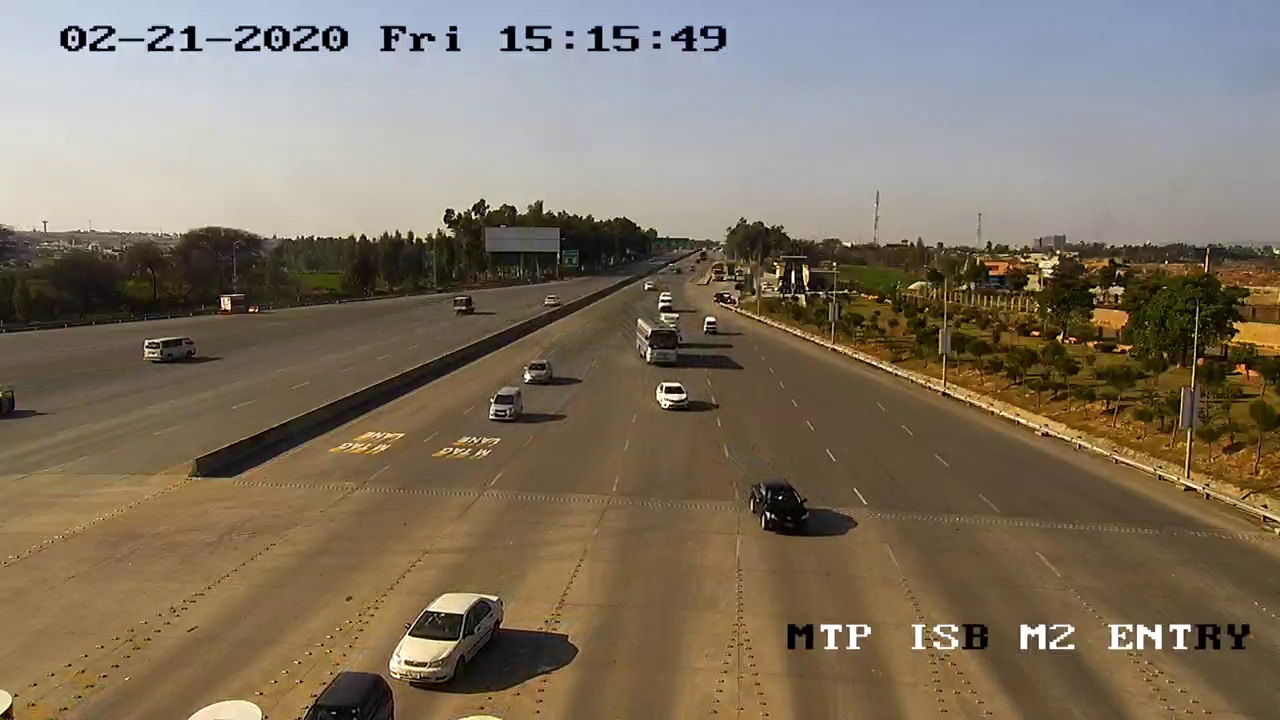f1: (384, 580, 512, 692), (744, 470, 818, 548)
